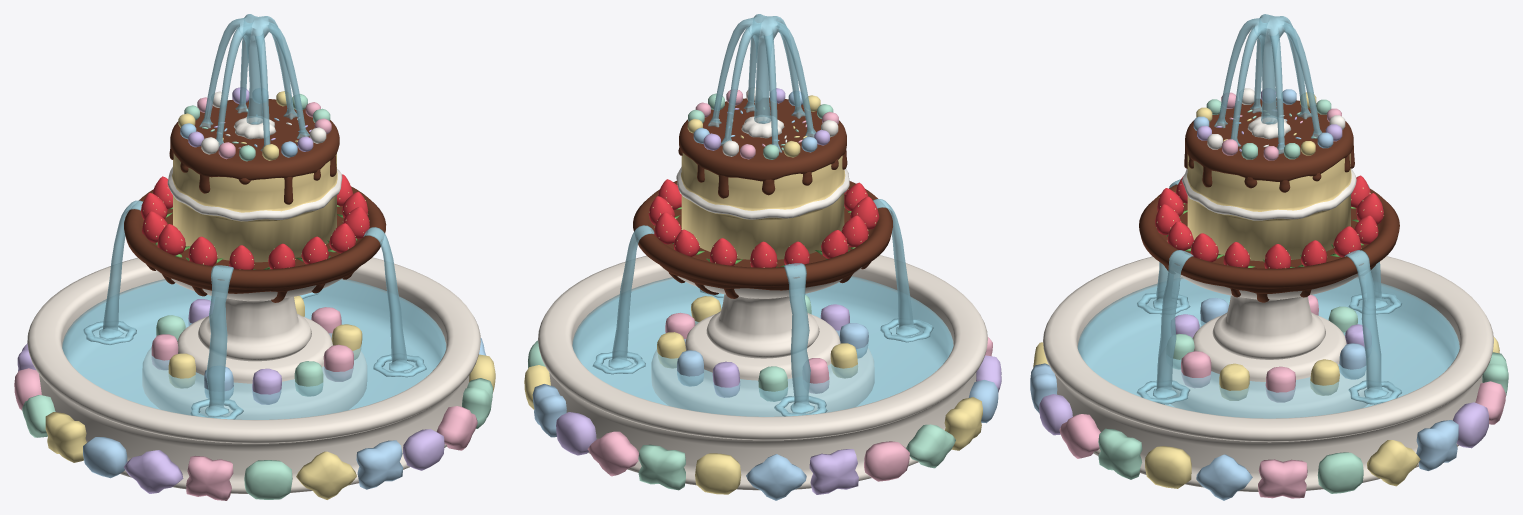
File: CakeFountain.fbx
The picture shows the model from 3 angles, left to right: view 1: azimuth 30°, elevation 25°; view 2: azimuth 150°, elevation 25°; view 3: azimuth 270°, elevation 25°; orthographic projection.
Visible parts, largest first — view 1: FT_Basin, FT_Cake, FT_WaterPool, FT_Jet, FT_Fall_3, FT_Fall_4, FT_Fall_2, FT_Splash_2, FT_Splash_4; view 2: FT_Basin, FT_Cake, FT_WaterPool, FT_Jet, FT_Fall_2, FT_Fall_1, FT_Fall_3, FT_Splash_3, FT_Splash_1, FT_Splash_2; view 3: FT_Basin, FT_Cake, FT_WaterPool, FT_Jet, FT_Fall_1, FT_Fall_4, FT_Splash_1, FT_Splash_4.
Part boxes in pixels (x1,y1,x2,y2): FT_Basin: (14, 257, 495, 500); FT_Cake: (124, 87, 386, 361); FT_WaterPool: (62, 279, 446, 419); FT_Jet: (199, 14, 309, 150); FT_Fall_3: (205, 265, 233, 416); FT_Fall_4: (363, 227, 413, 371); FT_Fall_2: (99, 200, 142, 339); FT_Splash_2: (83, 321, 136, 344); FT_Splash_4: (373, 354, 426, 377); FT_Basin: (524, 255, 1001, 500); FT_Cake: (633, 87, 892, 358); FT_WaterPool: (572, 276, 953, 416); FT_Jet: (708, 14, 815, 152); FT_Fall_2: (784, 263, 814, 413); FT_Fall_1: (608, 225, 654, 369); FT_Fall_3: (873, 199, 920, 336); FT_Splash_3: (880, 318, 933, 342); FT_Splash_1: (592, 351, 645, 374); FT_Splash_2: (774, 395, 827, 416); FT_Basin: (1030, 256, 1508, 500); FT_Cake: (1139, 88, 1399, 359); FT_WaterPool: (1077, 277, 1459, 418); FT_Jet: (1214, 14, 1322, 154); FT_Fall_1: (1344, 250, 1388, 398); FT_Fall_4: (1153, 250, 1193, 398); FT_Splash_1: (1348, 380, 1401, 404); FT_Splash_4: (1136, 380, 1190, 404).
Bounding box in the file's own units: 2.76 × 2.45 × 2.76.
